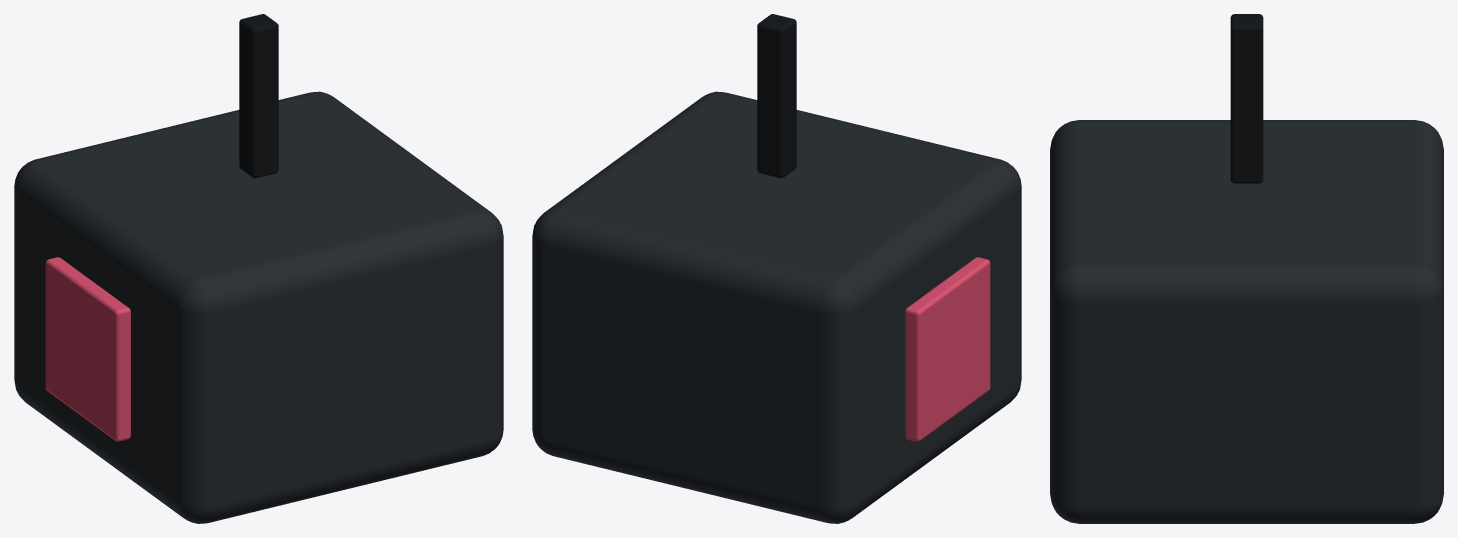
File: explosive.glb
3 views of the same model, side by side, from view 1: azimuth 30°, elevation 25°; view 2: azimuth 150°, elevation 25°; view 3: azimuth 270°, elevation 25° (orthographic). The views are drawn at different scales.
Parts seen in each view (by area): view 1: explosive-weapon; view 2: explosive-weapon; view 3: explosive-weapon.
Boxes of the visible parts, x1=… form: explosive-weapon: x1=14, y1=14, x2=503, y2=523; explosive-weapon: x1=532, y1=14, x2=1021, y2=523; explosive-weapon: x1=1050, y1=14, x2=1443, y2=523.
Bounding box in the file's own units: 0.7575 × 0.87 × 0.72.
